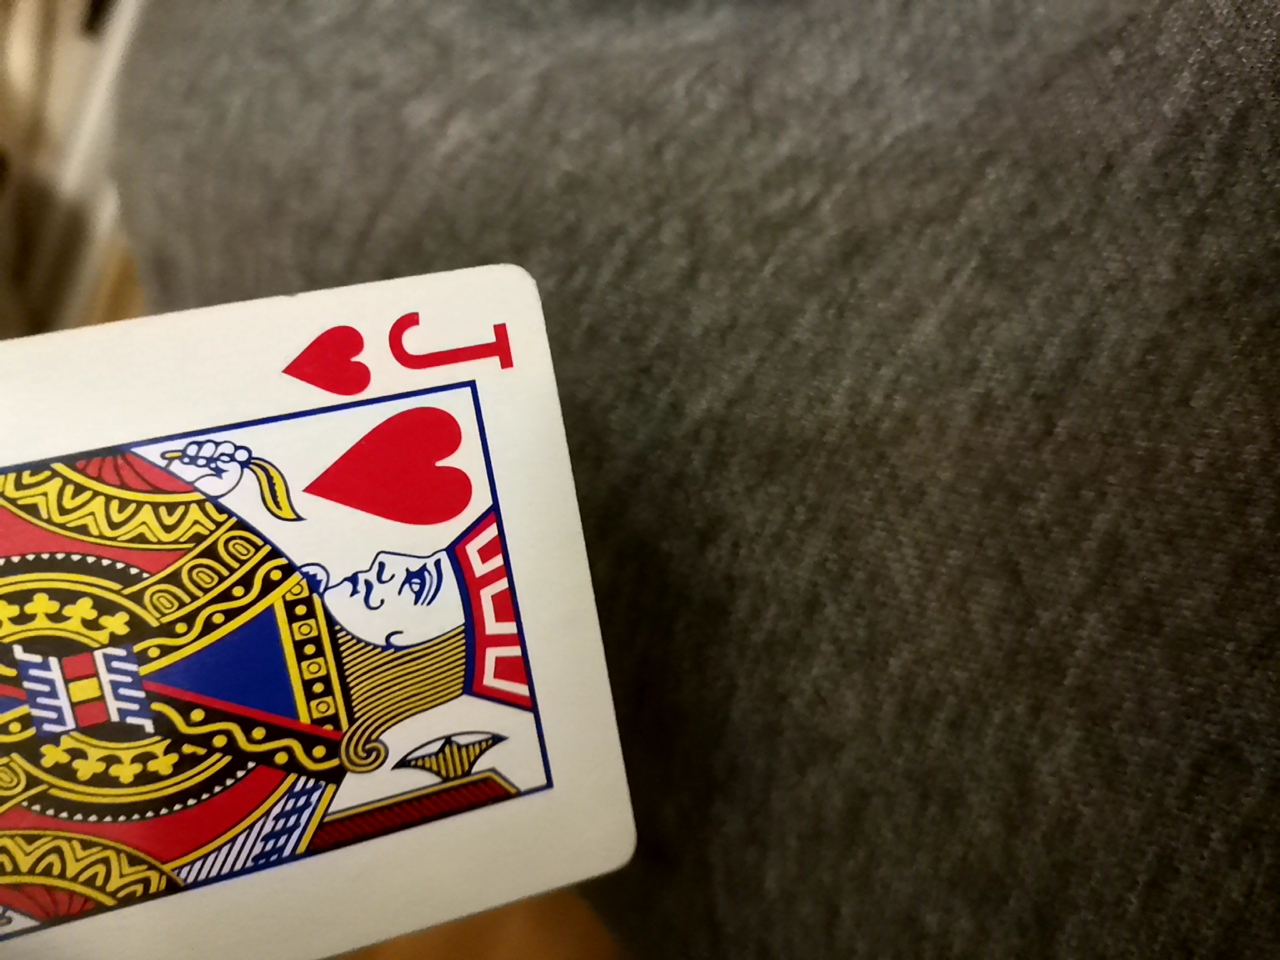hx j: (0, 269, 640, 953)
